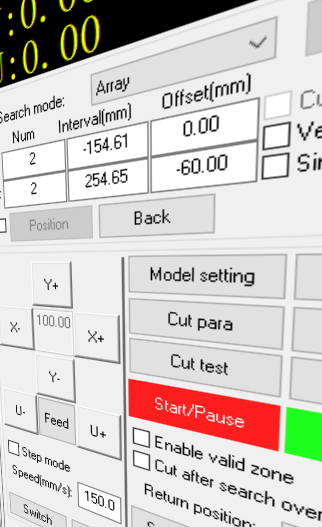start: (138, 381, 281, 437)
timer: (146, 71, 257, 194)
